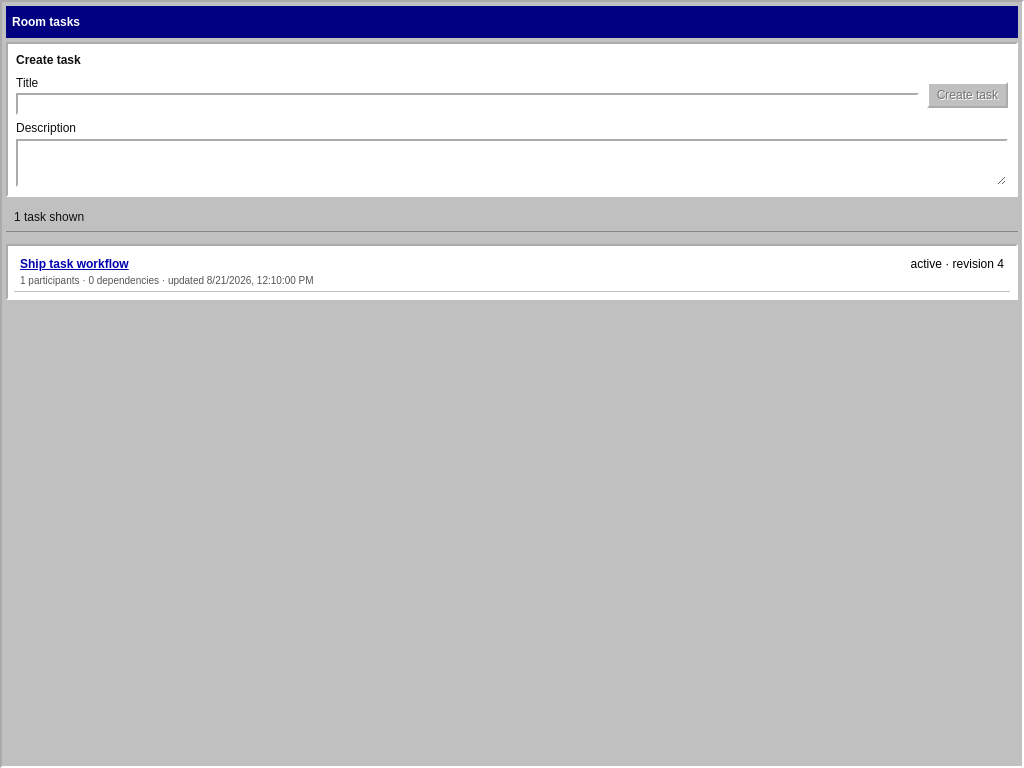
room task interface › loads a concurrent revision without discarding typed edits
The image size is (1024, 768).
Click the button "Ship task workflow": (74, 264) x1=14 y1=252 x2=1010 y2=292
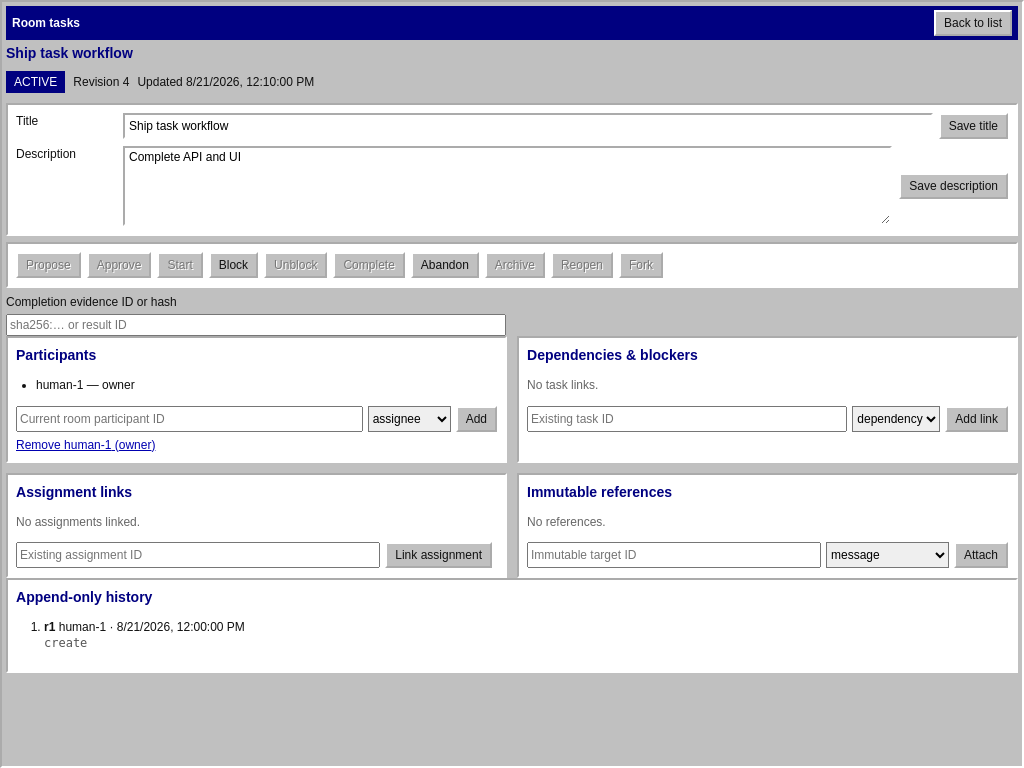
Replace the text in the field labelled "Title" with "My unsaved title": (528, 126) x1=123 y1=113 x2=933 y2=139
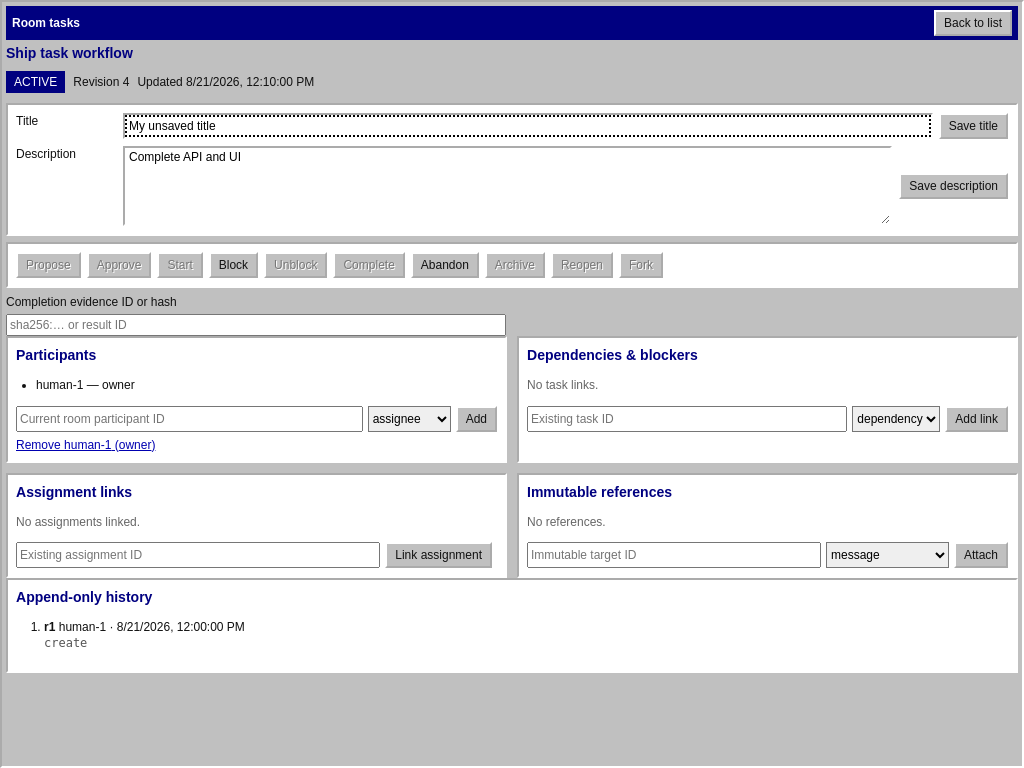
Click the button "Save title": (973, 126) x1=939 y1=113 x2=1008 y2=139
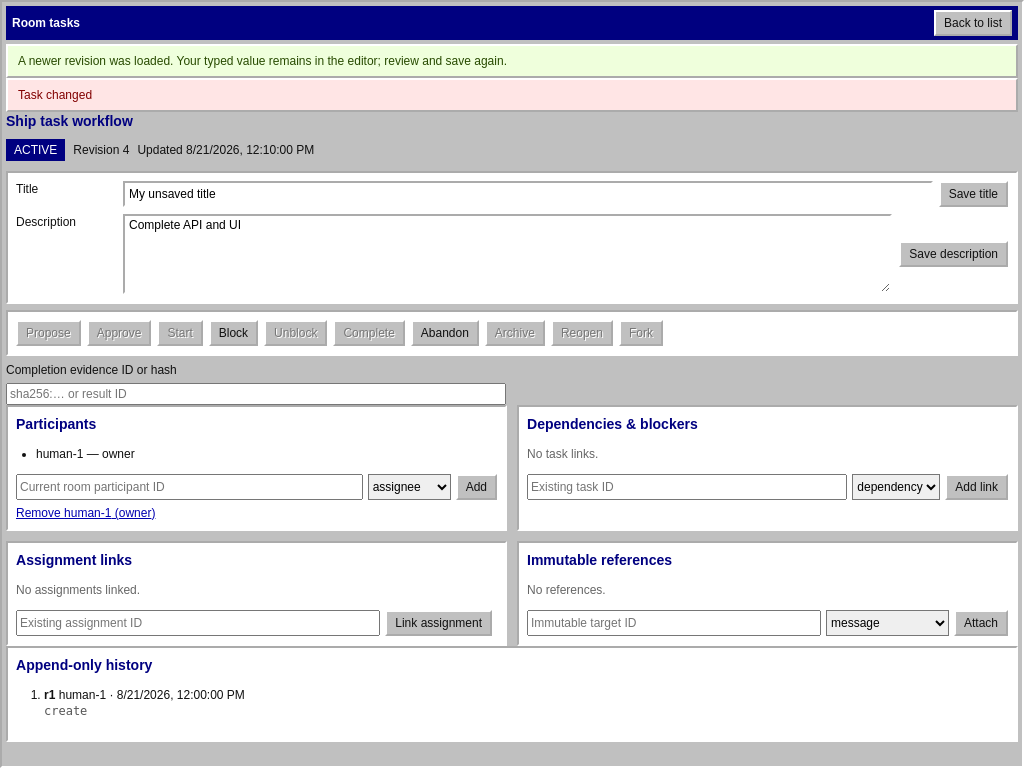
Result: the text "typed value remains" is shown at x1=18 y1=54 x2=507 y2=68
